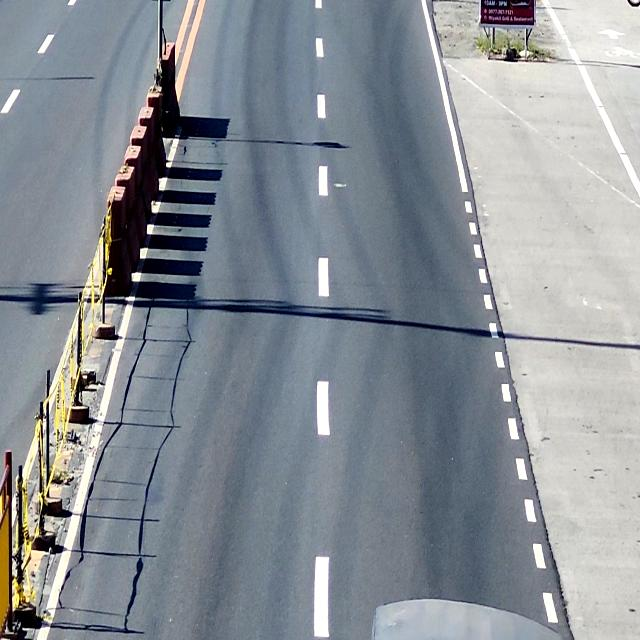Jeep: (366, 599, 564, 640)
